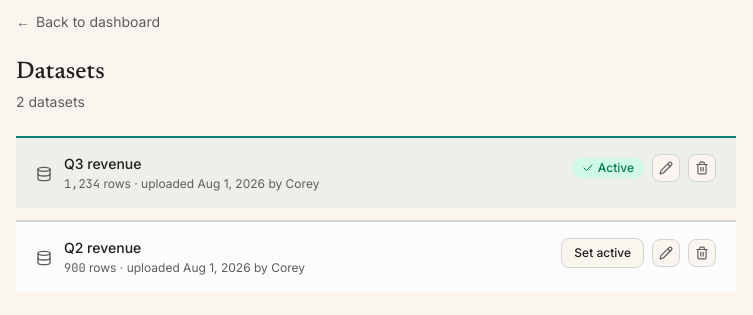
Test case: Datasets rename › shows the new name without refetching the list
Expected: the text "Q3 revenue" is shown, [64,155,142,172]
Click the button named "Rename dataset" in the row of "Q3 revenue" at (666, 168), box [652,154,680,182]
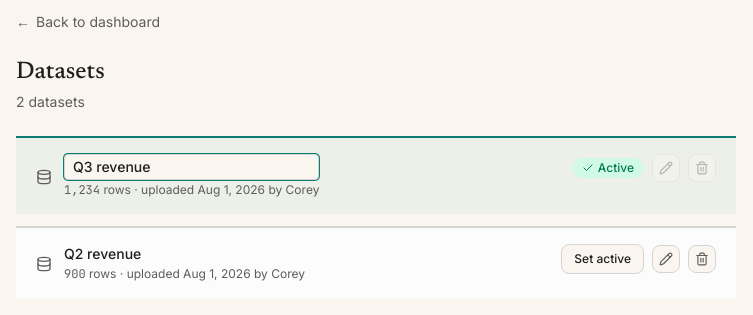
Replace the text in the field with "Q3 revenue final" at (192, 167), box [64,154,319,180]
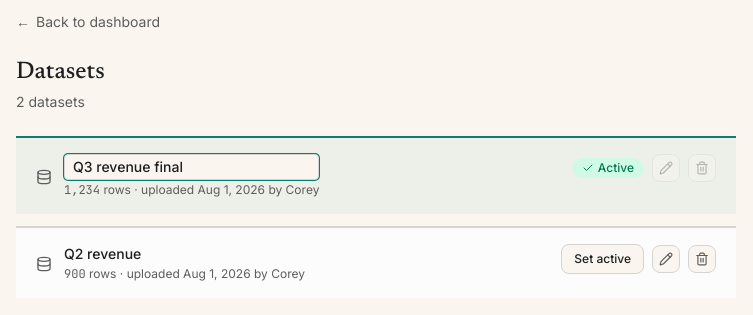
Press Enter
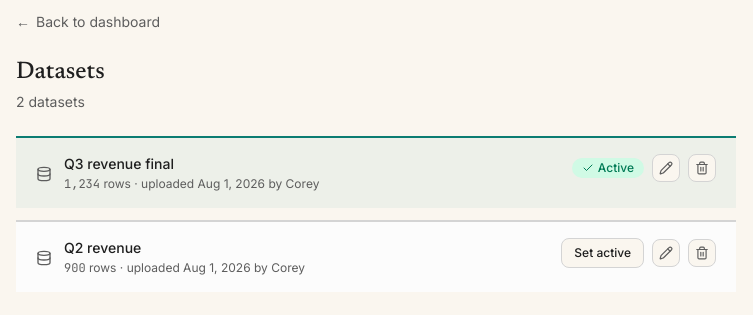
Now the text "Q3 revenue final" is shown, box [64,155,174,172]
